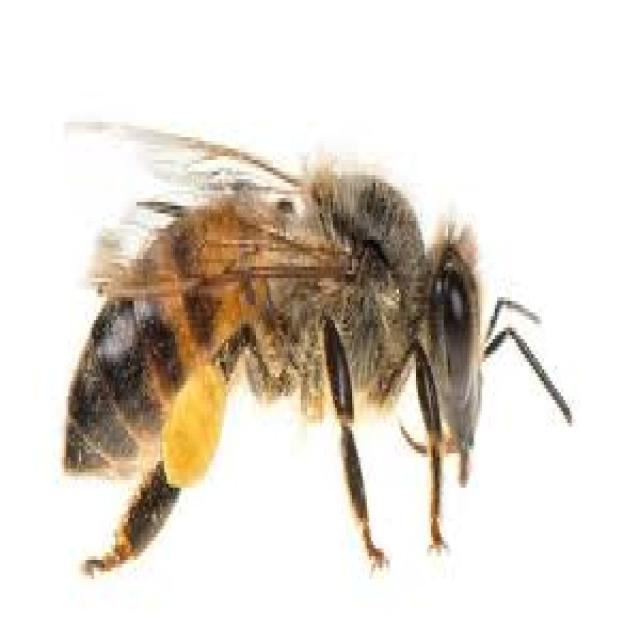Bees: (61, 117, 572, 583)
